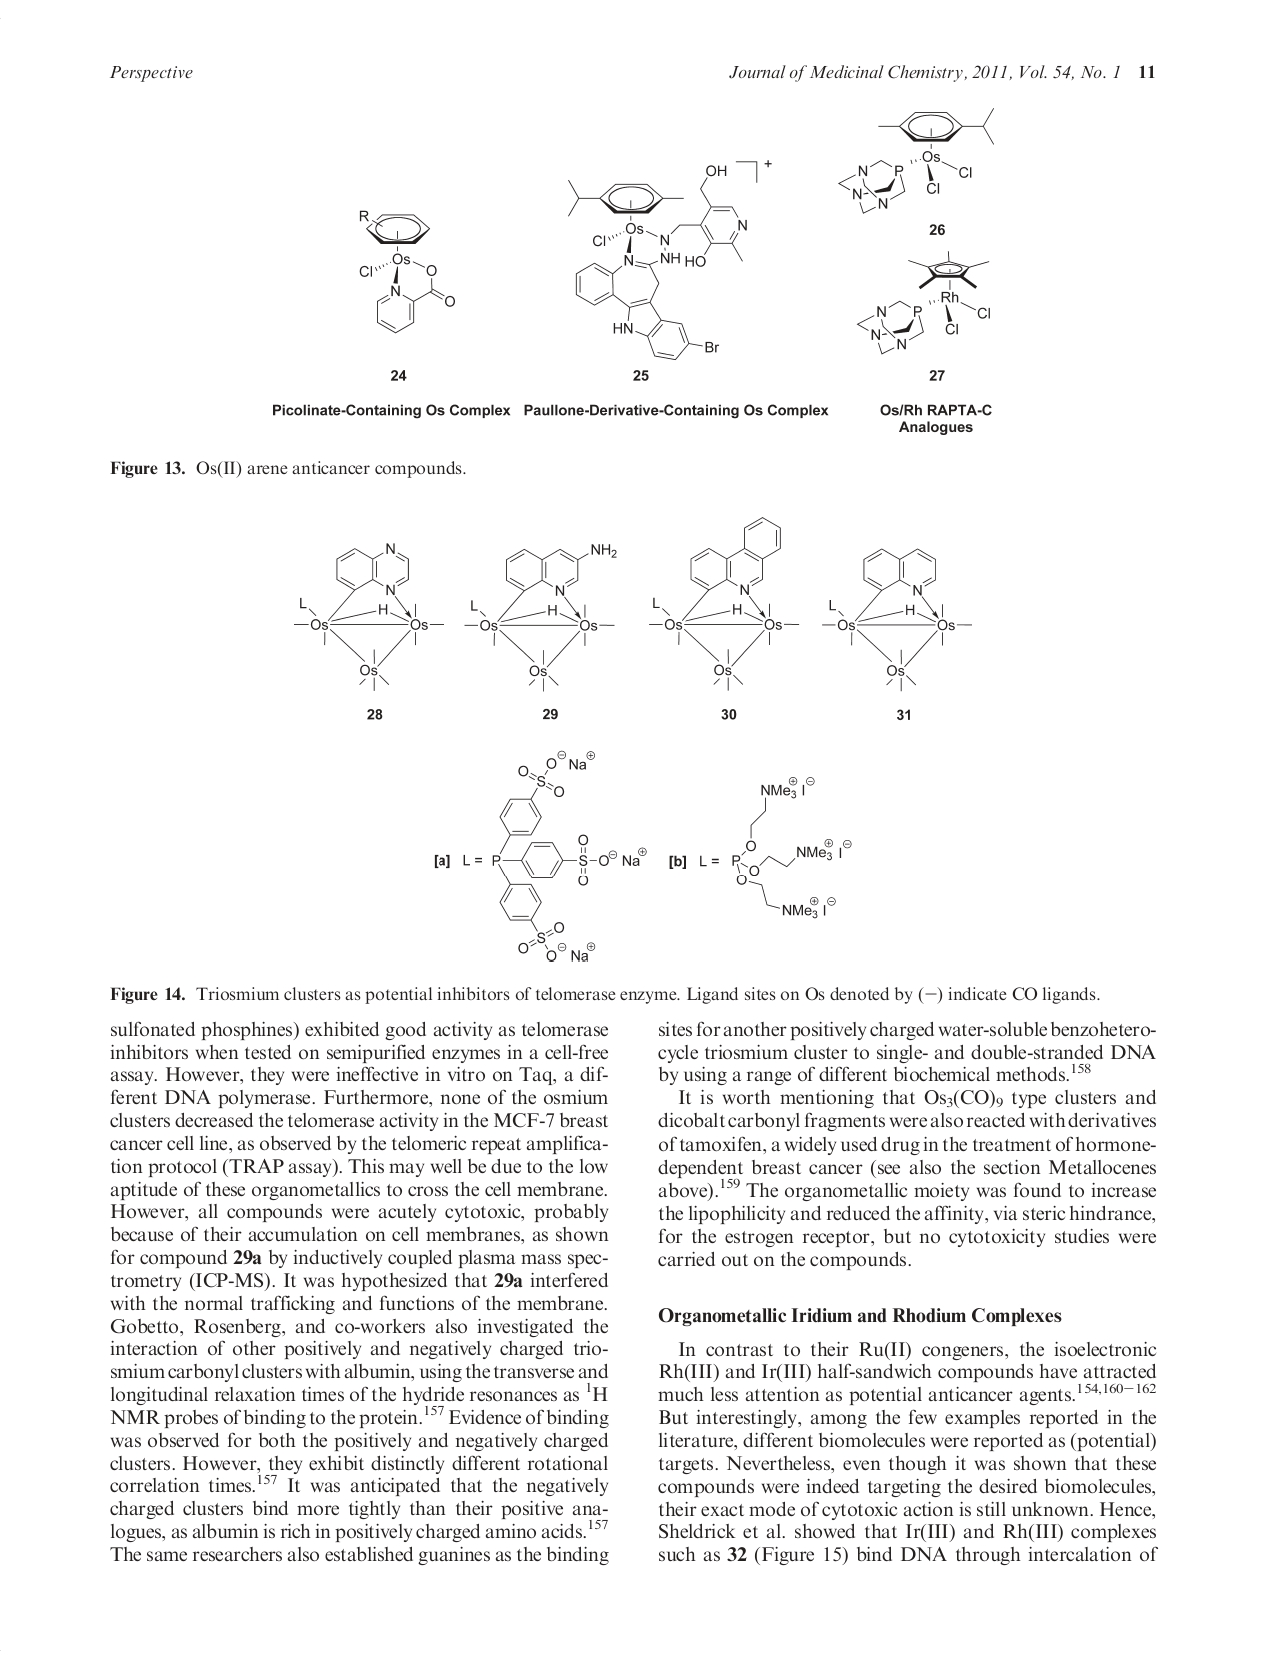exist_molecular: (460, 746, 650, 964), (563, 164, 749, 364), (645, 515, 802, 692), (463, 539, 622, 693), (289, 543, 447, 692), (819, 545, 975, 693), (729, 771, 855, 926), (836, 106, 999, 217), (850, 249, 996, 362), (354, 207, 457, 335)
